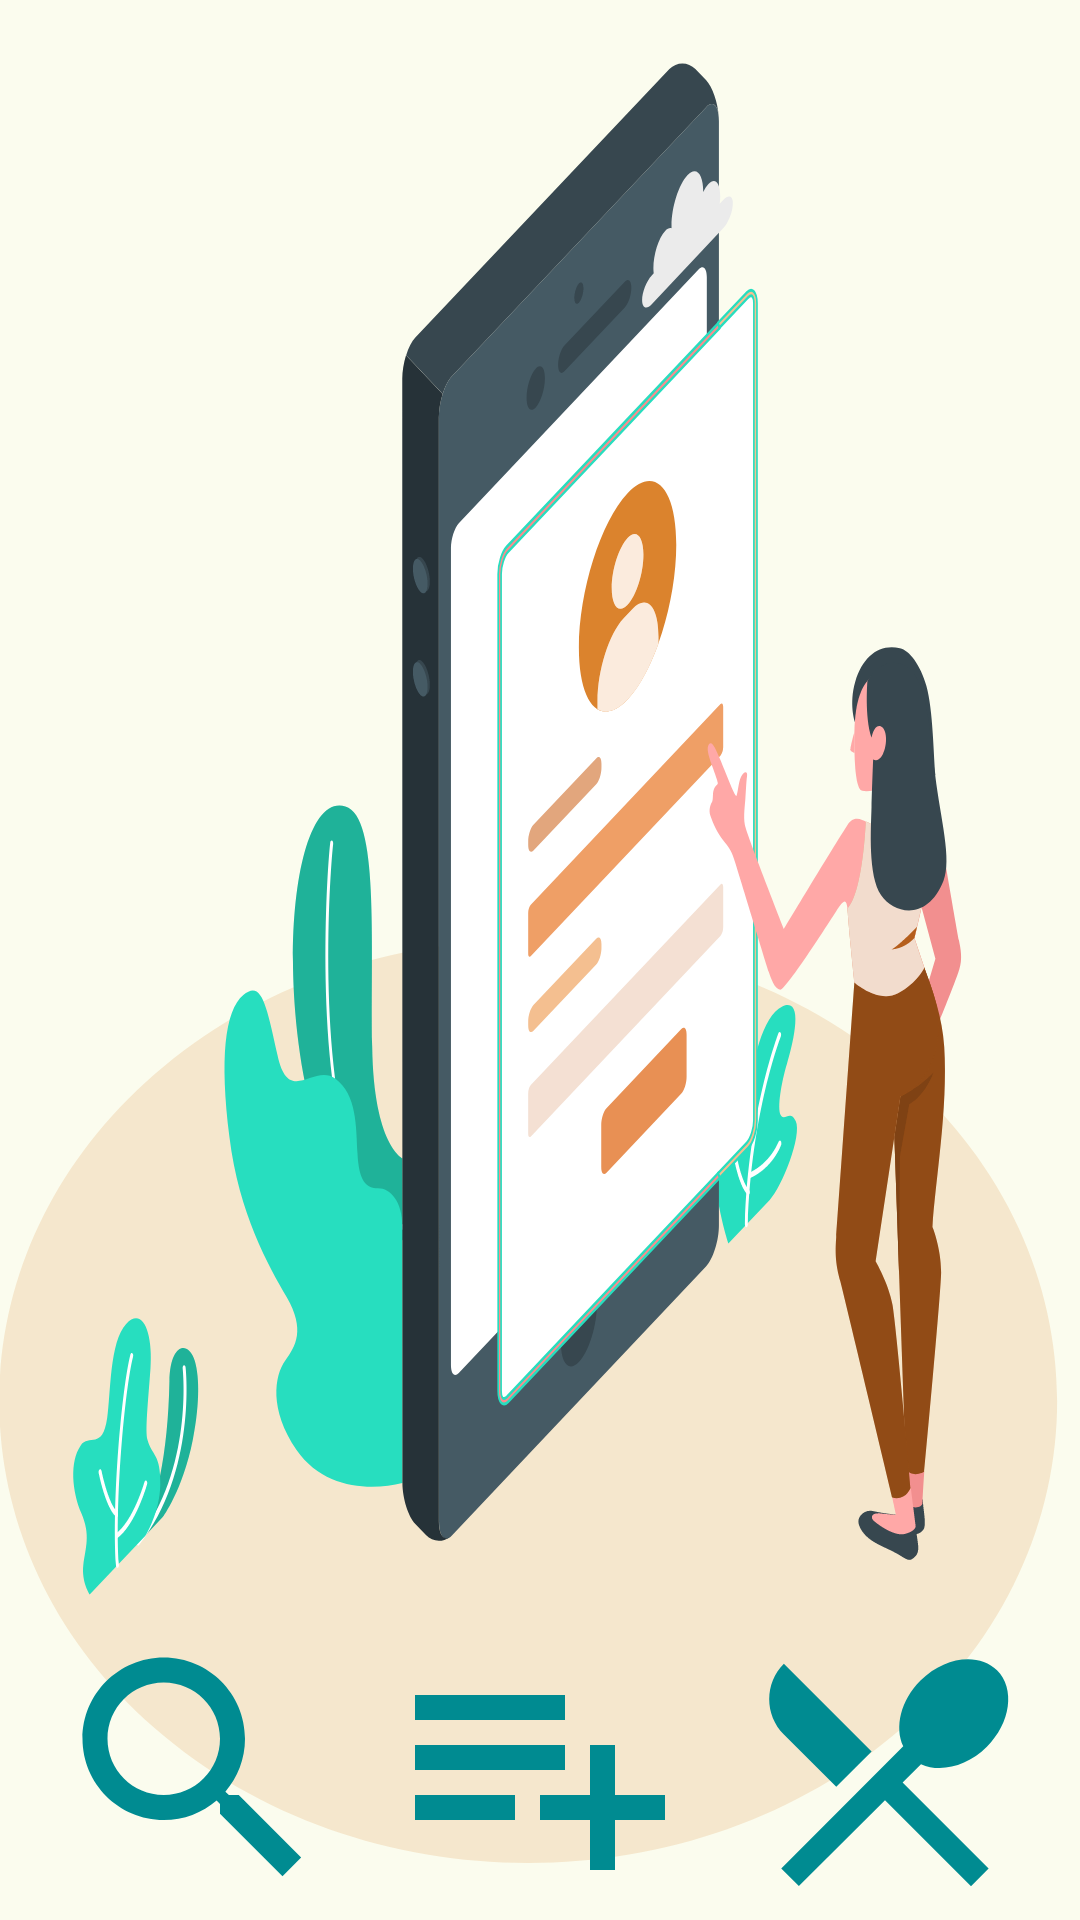

Point at icon controls on the screen. Image size 1080x1920, points as [x,y].
playlist add menuadd: [540,1807]
restaurant menu: [885,1770]
search: [195,1770]
